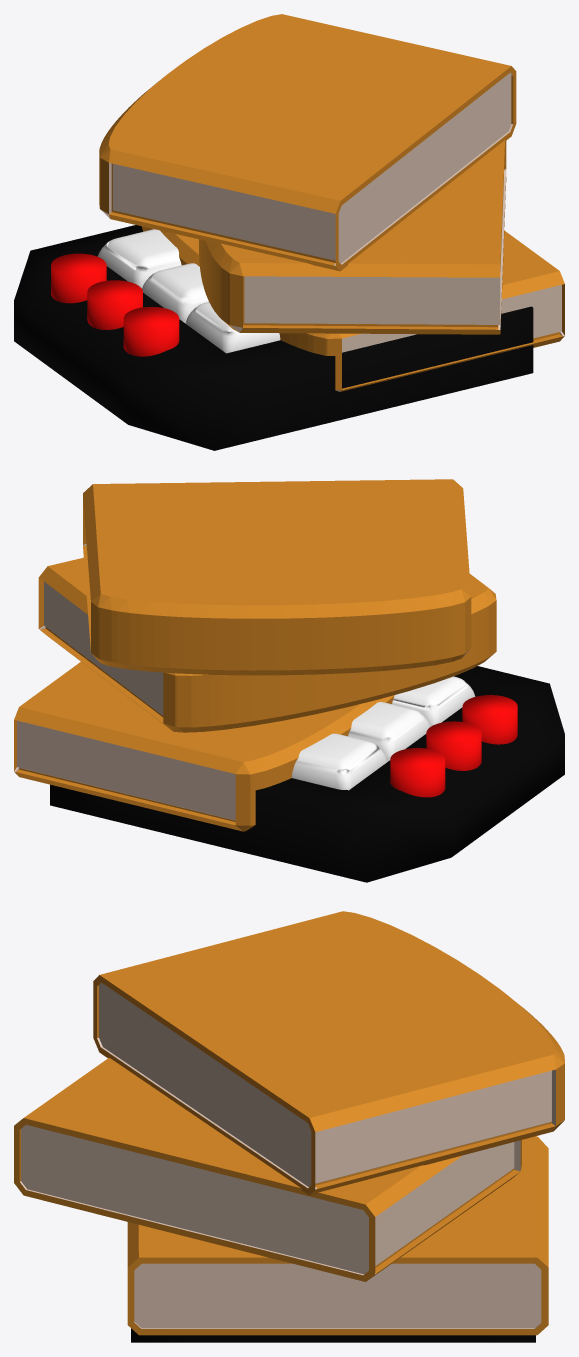
File: oldbook (1).fbx
3 views of the same model, one above another, from view 1: azimuth 30°, elevation 25°; view 2: azimuth 150°, elevation 25°; view 3: azimuth 270°, elevation 25° (orthographic). The views are drawn at different scales.
Visible parts, largest first — view 1: Circle, Cube; view 2: Circle, Cube; view 3: Circle, Cube.
Part boxes in pixels (x1,y1,x2,y2): Circle: (99, 14, 564, 391); Cube: (14, 225, 533, 450); Circle: (14, 479, 496, 831); Cube: (50, 666, 564, 882); Circle: (14, 911, 564, 1335); Cube: (131, 1328, 535, 1342).
Size of the model in its own units: 1186 by 600 by 1134.
